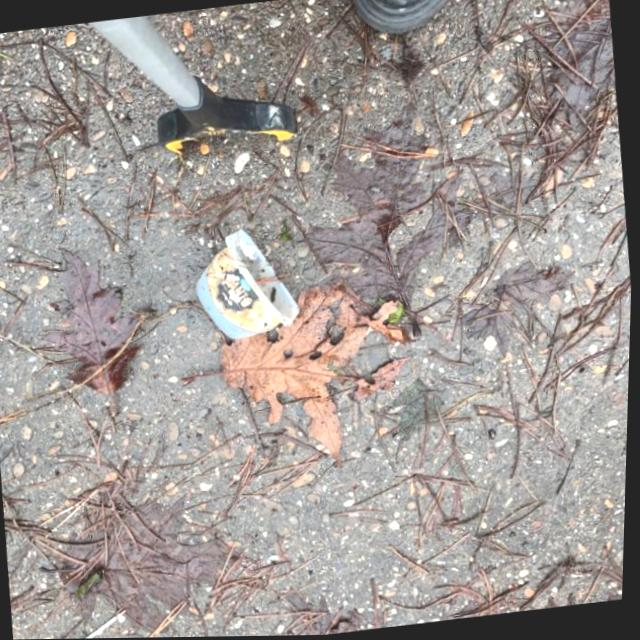Paper: (187, 221, 307, 345)
